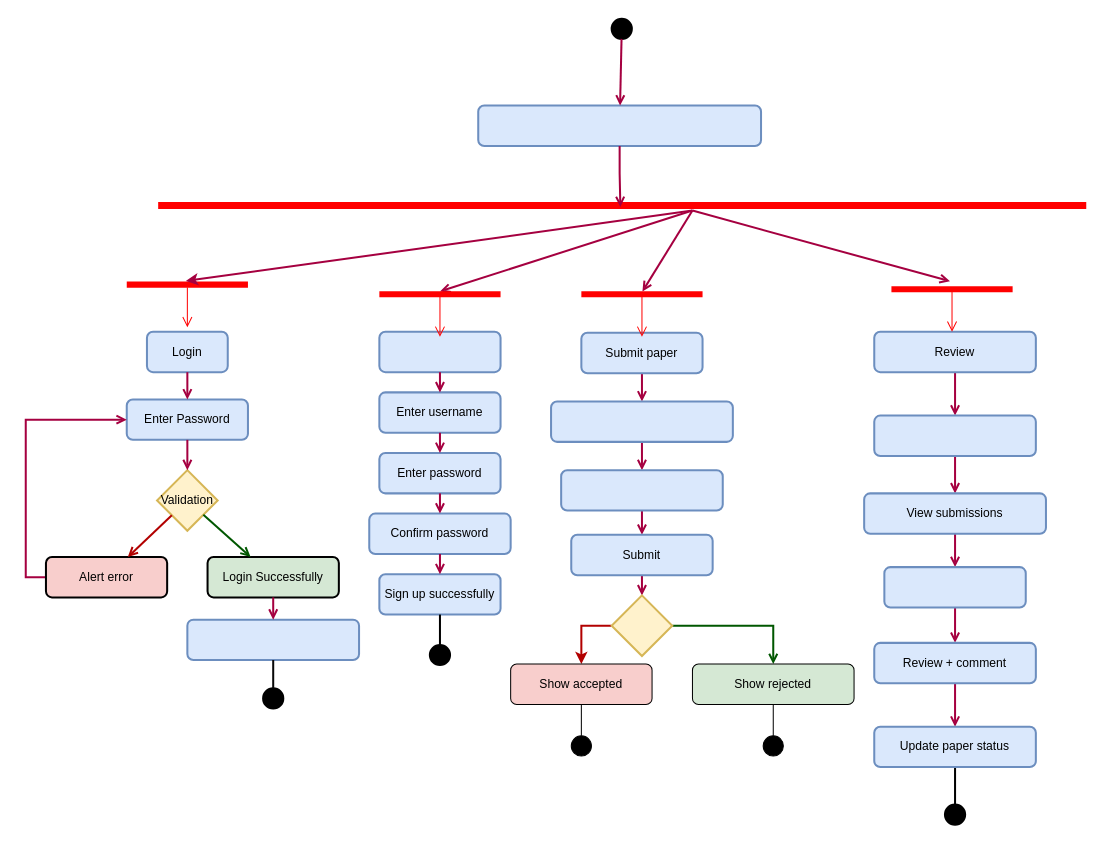
This 1107x842 diagram has some shape labels left out. Each missing label, with the box of its shape:
Accepted ?: (610, 594, 673, 656)
Access to Employee Account: (186, 618, 360, 661)
Conference Software Management: (477, 104, 762, 146)
Enter paper info: (550, 400, 733, 442)
Login into reviewer account: (873, 414, 1036, 457)
Select paper: (883, 566, 1026, 608)
Sign up: (378, 330, 501, 373)
Upload file: (560, 469, 723, 511)
